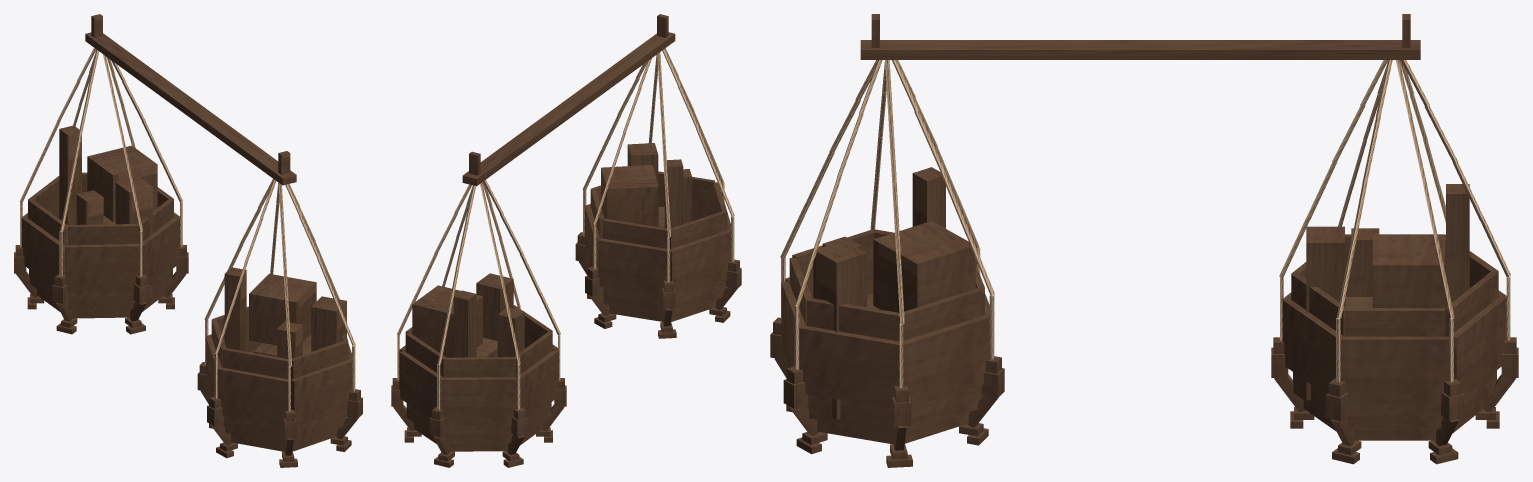
The model's file is prop_Tiao_Xingli_01.FBX.
The picture shows the model from 3 angles, left to right: view 1: azimuth 30°, elevation 25°; view 2: azimuth 150°, elevation 25°; view 3: azimuth 270°, elevation 25°; orthographic projection. The views are drawn at different scales.
Parts seen in each view (by area): view 1: prop_Tiao_Xingli_01; view 2: prop_Tiao_Xingli_01; view 3: prop_Tiao_Xingli_01.
Part boxes in pixels (left/top/right/bottom): prop_Tiao_Xingli_01: left=14, top=14, right=362, bottom=467; prop_Tiao_Xingli_01: left=391, top=14, right=741, bottom=467; prop_Tiao_Xingli_01: left=770, top=14, right=1518, bottom=467.
Size of the model in its own units: 56.33 by 102 by 170.
